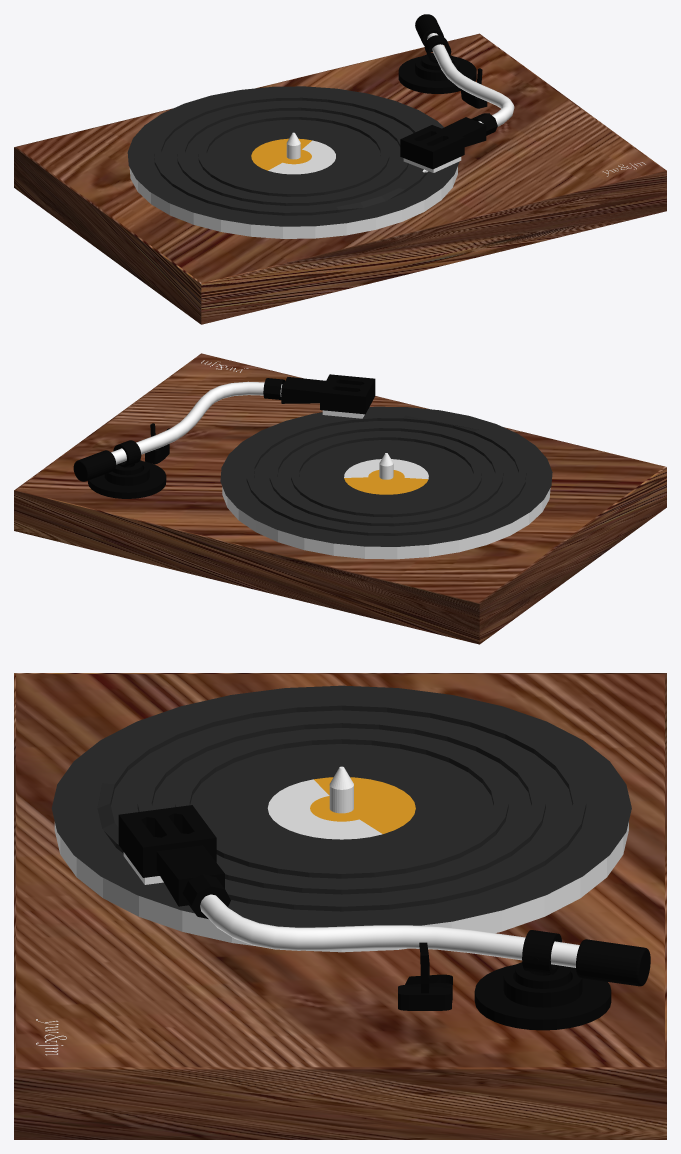
File: turntable.glb
3 renders of one model, top to bottom at view 1: azimuth 30°, elevation 25°; view 2: azimuth 150°, elevation 25°; view 3: azimuth 270°, elevation 25°, orthographic. The views are drawn at different scales.
Parts seen in each view (by area): view 1: Table, LP, Platter, Headshell, Anti-Skate, Tone Arm, Handler; view 2: Table, LP, Platter, Headshell, Tone Arm, Anti-Skate, Handler, Traking; view 3: Table, LP, Tone Arm, Platter, Headshell, Anti-Skate, Handler, Cube.002, Traking.
Boxes of the visible parts, x1=… form: Table: x1=14, y1=33, x2=666, y2=324; LP: x1=127, y1=86, x2=459, y2=226; Platter: x1=129, y1=132, x2=457, y2=238; Headshell: x1=400, y1=113, x2=497, y2=169; Anti-Skate: x1=398, y1=53, x2=476, y2=93; Tone Arm: x1=427, y1=33, x2=514, y2=126; Handler: x1=415, y1=14, x2=443, y2=45; Table: x1=14, y1=353, x2=666, y2=644; LP: x1=220, y1=406, x2=552, y2=546; Platter: x1=222, y1=453, x2=550, y2=559; Headshell: x1=263, y1=374, x2=375, y2=414; Tone Arm: x1=111, y1=381, x2=282, y2=464; Anti-Skate: x1=88, y1=460, x2=166, y2=498; Handler: x1=73, y1=450, x2=115, y2=481; Traking: x1=113, y1=440, x2=141, y2=467; Table: x1=14, y1=673, x2=666, y2=1139; LP: x1=51, y1=685, x2=631, y2=927; Tone Arm: x1=200, y1=894, x2=579, y2=967; Platter: x1=54, y1=766, x2=628, y2=952; Headshell: x1=118, y1=805, x2=230, y2=918; Anti-Skate: x1=474, y1=962, x2=611, y2=1030; Handler: x1=576, y1=939, x2=650, y2=986; Cube.002: x1=398, y1=942, x2=452, y2=1010; Traking: x1=522, y1=930, x2=561, y2=974.
Bounding box in the file's own units: 2.7 × 0.4821 × 1.88.
8 materials, 1 textured.
